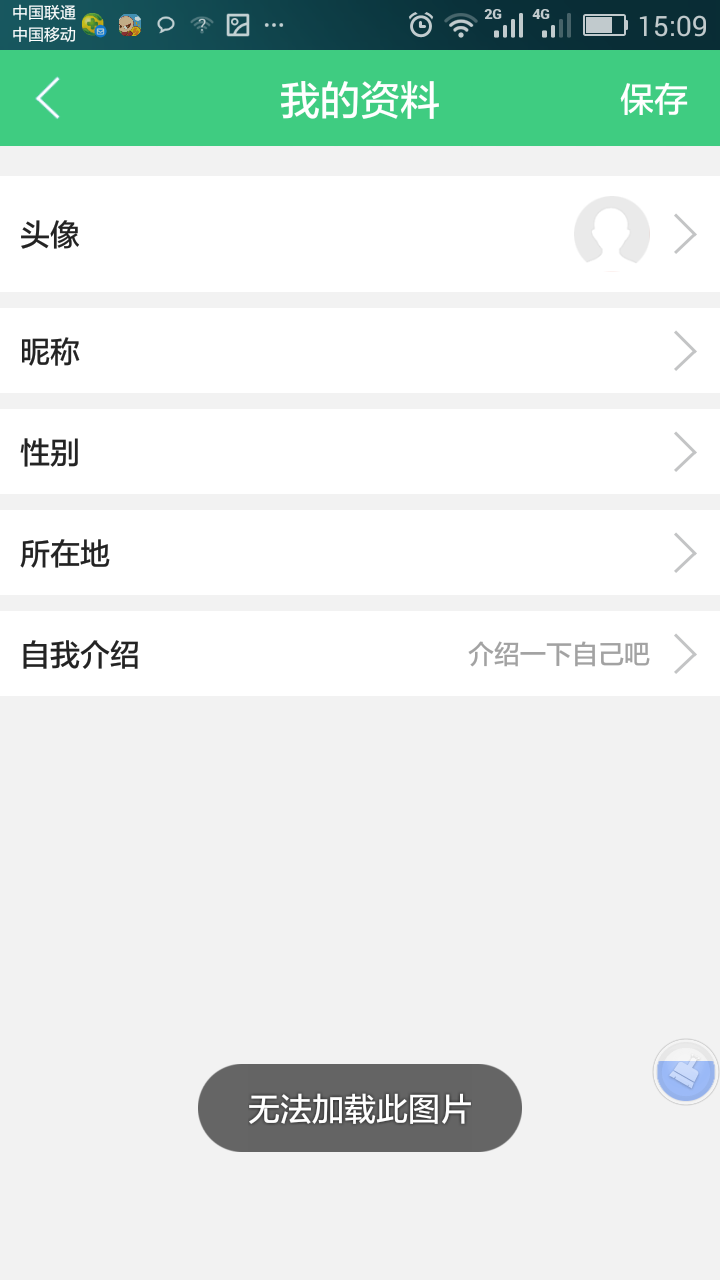alert: (195, 1057, 528, 1160)
button: (595, 68, 701, 129)
